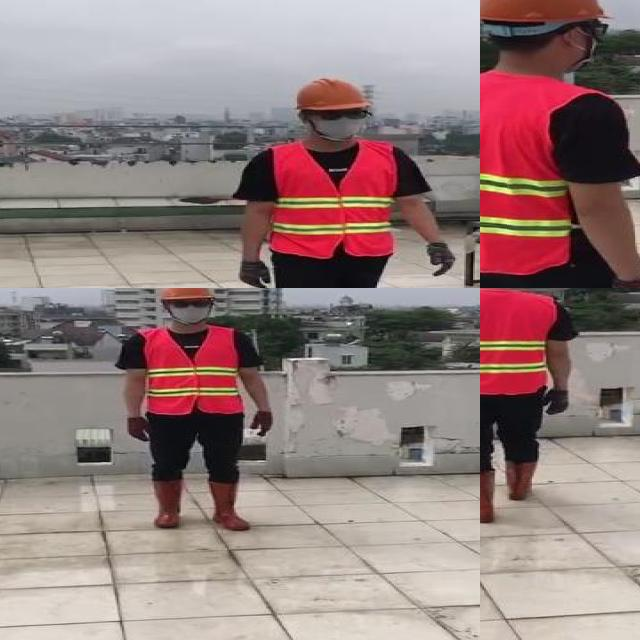boots: (206, 482, 248, 532), (149, 477, 186, 529), (505, 460, 539, 501), (480, 470, 498, 521)
face_mask: (314, 106, 367, 139), (165, 296, 211, 323)
glasses: (309, 106, 370, 122), (163, 295, 213, 311)
hand_glove: (425, 241, 457, 277), (237, 261, 272, 287), (124, 418, 152, 444), (250, 409, 275, 436), (545, 391, 571, 415)
head_helmet: (111, 288, 285, 532), (480, 0, 616, 27), (292, 74, 375, 112), (150, 288, 216, 300)
person: (222, 67, 469, 288), (480, 0, 640, 288), (480, 288, 581, 525)
vest: (480, 74, 580, 274), (270, 137, 400, 257), (141, 326, 243, 416), (480, 291, 555, 395)
